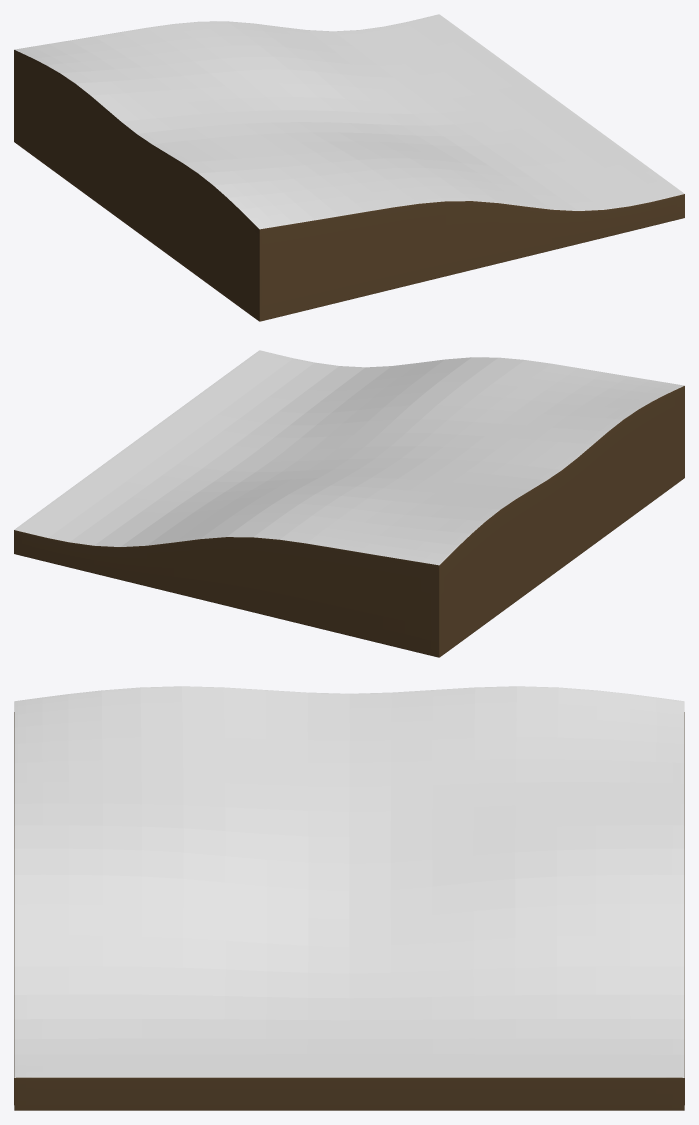
Rendered from DioSand_01.fbx.
3 renders of one model, top to bottom at view 1: azimuth 30°, elevation 25°; view 2: azimuth 150°, elevation 25°; view 3: azimuth 270°, elevation 25°, orthographic. The views are drawn at different scales.
Parts seen in each view (by area): view 1: DioSand_01; view 2: DioSand_01; view 3: DioSand_01.
Part boxes in pixels (<box>): DioSand_01: <box>14,14,684,321</box>; DioSand_01: <box>14,350,684,657</box>; DioSand_01: <box>14,686,684,1110</box>.
Bounding box in the file's own units: 1016 × 236 × 1016.
